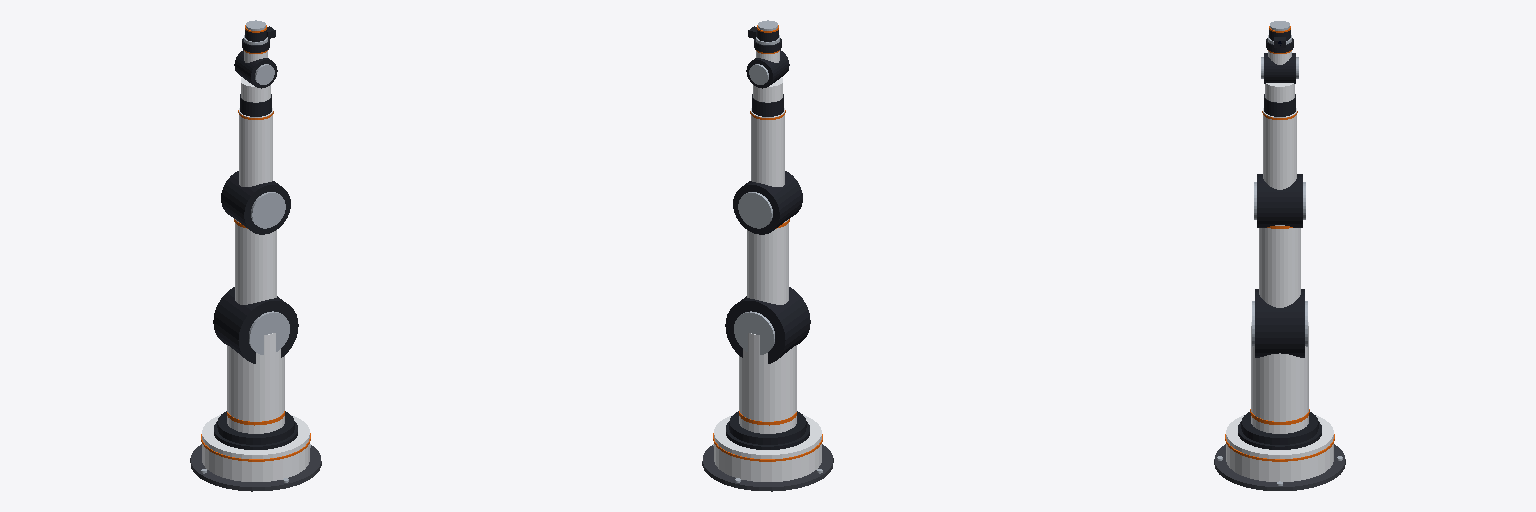
robot.urdf — robot_6axes:
<?xml version="1.0"?>
<robot name="robot_6axes">

  <!-- Base Link -->
  <link name="base_link">
    <visual>
      <geometry>
        <cylinder length="0.012" radius="0.17"/>
      </geometry>
      <origin xyz="0 0 0.006" rpy="0 0 0"/>
      <material name="anthracite">
        <color rgba="0.28 0.29 0.32 1"/>
      </material>
    </visual>
    <visual>
      <geometry>
        <cylinder length="0.078" radius="0.14"/>
      </geometry>
      <origin xyz="0 0 0.051" rpy="0 0 0"/>
      <material name="white">
        <color rgba="0.93 0.94 0.96 1"/>
      </material>
    </visual>
    <visual>
      <geometry>
        <cylinder length="0.006" radius="0.1425"/>
      </geometry>
      <origin xyz="0 0 0.075" rpy="0 0 0"/>
      <material name="orange">
        <color rgba="0.96 0.46 0.1 1"/>
      </material>
    </visual>
    <visual>
      <geometry>
        <cylinder length="0.01" radius="0.11"/>
      </geometry>
      <origin xyz="0 0 0.095" rpy="0 0 0"/>
      <material name="graphite">
        <color rgba="0.17 0.18 0.21 1"/>
      </material>
    </visual>
    <visual>
      <geometry>
        <cylinder length="0.006" radius="0.008"/>
      </geometry>
      <origin xyz="0.155 0 0.015" rpy="0 0 0"/>
      <material name="silver">
        <color rgba="0.72 0.75 0.79 1"/>
      </material>
    </visual>
    <visual>
      <geometry>
        <cylinder length="0.006" radius="0.008"/>
      </geometry>
      <origin xyz="-0.155 0 0.015" rpy="0 0 0"/>
      <material name="silver">
        <color rgba="0.72 0.75 0.79 1"/>
      </material>
    </visual>
    <visual>
      <geometry>
        <cylinder length="0.006" radius="0.008"/>
      </geometry>
      <origin xyz="0 0.155 0.015" rpy="0 0 0"/>
      <material name="silver">
        <color rgba="0.72 0.75 0.79 1"/>
      </material>
    </visual>
    <visual>
      <geometry>
        <cylinder length="0.006" radius="0.008"/>
      </geometry>
      <origin xyz="0 -0.155 0.015" rpy="0 0 0"/>
      <material name="silver">
        <color rgba="0.72 0.75 0.79 1"/>
      </material>
    </visual>
    <collision>
      <geometry>
        <cylinder length="0.1" radius="0.15"/>
      </geometry>
      <origin xyz="0 0 0.05" rpy="0 0 0"/>
    </collision>
    <inertial>
      <mass value="5.0"/>
      <origin xyz="0 0 0.05" rpy="0 0 0"/>
      <inertia ixx="0.05" ixy="0.0" ixz="0.0" iyy="0.05" iyz="0.0" izz="0.08"/>
    </inertial>
  </link>

  <!-- Link 1 -->
  <link name="link1">
    <visual>
      <geometry>
        <cylinder length="0.02" radius="0.1"/>
      </geometry>
      <origin xyz="0 0 0.01" rpy="0 0 0"/>
      <material name="graphite">
        <color rgba="0.17 0.18 0.21 1"/>
      </material>
    </visual>
    <visual>
      <geometry>
        <cylinder length="0.28" radius="0.075"/>
      </geometry>
      <origin xyz="0 0 0.16" rpy="0 0 0"/>
      <material name="white">
        <color rgba="0.93 0.94 0.96 1"/>
      </material>
    </visual>
    <visual>
      <geometry>
        <cylinder length="0.01" radius="0.0765"/>
      </geometry>
      <origin xyz="0 0 0.05" rpy="0 0 0"/>
      <material name="orange">
        <color rgba="0.96 0.46 0.1 1"/>
      </material>
    </visual>
    <visual>
      <geometry>
        <cylinder length="0.13" radius="0.09"/>
      </geometry>
      <origin xyz="0 0 0.30" rpy="1.5708 0 0"/>
      <material name="graphite">
        <color rgba="0.17 0.18 0.21 1"/>
      </material>
    </visual>
    <visual>
      <geometry>
        <cylinder length="0.145" radius="0.06"/>
      </geometry>
      <origin xyz="0 0 0.30" rpy="1.5708 0 0"/>
      <material name="silver">
        <color rgba="0.72 0.75 0.79 1"/>
      </material>
    </visual>
    <collision>
      <geometry>
        <cylinder length="0.3" radius="0.08"/>
      </geometry>
      <origin xyz="0 0 0.15" rpy="0 0 0"/>
    </collision>
    <inertial>
      <mass value="3.0"/>
      <origin xyz="0 0 0.15" rpy="0 0 0"/>
      <inertia ixx="0.025" ixy="0.0" ixz="0.0" iyy="0.025" iyz="0.0" izz="0.01"/>
    </inertial>
  </link>

  <!-- Joint 1: Base rotation -->
  <joint name="joint1" type="revolute">
    <parent link="base_link"/>
    <child link="link1"/>
    <origin xyz="0 0 0.1" rpy="0 0 0"/>
    <axis xyz="0 0 1"/>
    <limit effort="150.0" velocity="2.0" lower="-3.14159" upper="3.14159"/>
    <dynamics damping="1.5" friction="0.5"/>
  </joint>

  <!-- Link 2 -->
  <link name="link2">
    <visual>
      <geometry>
        <cylinder length="0.27" radius="0.055"/>
      </geometry>
      <origin xyz="0 0 0.18" rpy="0 0 0"/>
      <material name="white">
        <color rgba="0.93 0.94 0.96 1"/>
      </material>
    </visual>
    <visual>
      <geometry>
        <cylinder length="0.008" radius="0.0565"/>
      </geometry>
      <origin xyz="0 0 0.30" rpy="0 0 0"/>
      <material name="orange">
        <color rgba="0.96 0.46 0.1 1"/>
      </material>
    </visual>
    <visual>
      <geometry>
        <cylinder length="0.12" radius="0.07"/>
      </geometry>
      <origin xyz="0 0 0.35" rpy="1.5708 0 0"/>
      <material name="graphite">
        <color rgba="0.17 0.18 0.21 1"/>
      </material>
    </visual>
    <visual>
      <geometry>
        <cylinder length="0.135" radius="0.05"/>
      </geometry>
      <origin xyz="0 0 0.35" rpy="1.5708 0 0"/>
      <material name="silver">
        <color rgba="0.72 0.75 0.79 1"/>
      </material>
    </visual>
    <collision>
      <geometry>
        <cylinder length="0.35" radius="0.06"/>
      </geometry>
      <origin xyz="0 0 0.175" rpy="0 0 0"/>
    </collision>
    <inertial>
      <mass value="2.5"/>
      <origin xyz="0 0 0.175" rpy="0 0 0"/>
      <inertia ixx="0.03" ixy="0.0" ixz="0.0" iyy="0.03" iyz="0.0" izz="0.008"/>
    </inertial>
  </link>

  <!-- Joint 2: Shoulder -->
  <joint name="joint2" type="revolute">
    <parent link="link1"/>
    <child link="link2"/>
    <origin xyz="0 0 0.3" rpy="0 0 0"/>
    <axis xyz="0 1 0"/>
    <limit effort="120.0" velocity="1.8" lower="-1.57079" upper="1.57079"/>
    <dynamics damping="1.2" friction="0.4"/>
  </joint>

  <!-- Link 3 -->
  <link name="link3">
    <visual>
      <geometry>
        <cylinder length="0.22" radius="0.045"/>
      </geometry>
      <origin xyz="0 0 0.15" rpy="0 0 0"/>
      <material name="white">
        <color rgba="0.93 0.94 0.96 1"/>
      </material>
    </visual>
    <visual>
      <geometry>
        <cylinder length="0.006" radius="0.0455"/>
      </geometry>
      <origin xyz="0 0 0.255" rpy="0 0 0"/>
      <material name="orange">
        <color rgba="0.96 0.46 0.1 1"/>
      </material>
    </visual>
    <visual>
      <geometry>
        <cylinder length="0.04" radius="0.042"/>
      </geometry>
      <origin xyz="0 0 0.28" rpy="0 0 0"/>
      <material name="graphite">
        <color rgba="0.17 0.18 0.21 1"/>
      </material>
    </visual>
    <collision>
      <geometry>
        <cylinder length="0.3" radius="0.05"/>
      </geometry>
      <origin xyz="0 0 0.15" rpy="0 0 0"/>
    </collision>
    <inertial>
      <mass value="2.0"/>
      <origin xyz="0 0 0.15" rpy="0 0 0"/>
      <inertia ixx="0.02" ixy="0.0" ixz="0.0" iyy="0.02" iyz="0.0" izz="0.005"/>
    </inertial>
  </link>

  <!-- Joint 3: Elbow -->
  <joint name="joint3" type="revolute">
    <parent link="link2"/>
    <child link="link3"/>
    <origin xyz="0 0 0.35" rpy="0 0 0"/>
    <axis xyz="0 1 0"/>
    <limit effort="100.0" velocity="2.2" lower="-2.35619" upper="2.35619"/>
    <dynamics damping="1.0" friction="0.3"/>
  </joint>

  <!-- Link 4 -->
  <link name="link4">
    <visual>
      <geometry>
        <cylinder length="0.045" radius="0.04"/>
      </geometry>
      <origin xyz="0 0 0.0225" rpy="0 0 0"/>
      <material name="white">
        <color rgba="0.93 0.94 0.96 1"/>
      </material>
    </visual>
    <visual>
      <geometry>
        <cylinder length="0.085" radius="0.04"/>
      </geometry>
      <origin xyz="0 0 0.08" rpy="1.5708 0 0"/>
      <material name="graphite">
        <color rgba="0.17 0.18 0.21 1"/>
      </material>
    </visual>
    <visual>
      <geometry>
        <cylinder length="0.098" radius="0.028"/>
      </geometry>
      <origin xyz="0 0 0.08" rpy="1.5708 0 0"/>
      <material name="silver">
        <color rgba="0.72 0.75 0.79 1"/>
      </material>
    </visual>
    <collision>
      <geometry>
        <cylinder length="0.08" radius="0.04"/>
      </geometry>
      <origin xyz="0 0 0.04" rpy="0 0 0"/>
    </collision>
    <inertial>
      <mass value="1.0"/>
      <origin xyz="0 0 0.04" rpy="0 0 0"/>
      <inertia ixx="0.005" ixy="0.0" ixz="0.0" iyy="0.005" iyz="0.0" izz="0.002"/>
    </inertial>
  </link>

  <!-- Joint 4: Wrist roll -->
  <joint name="joint4" type="revolute">
    <parent link="link3"/>
    <child link="link4"/>
    <origin xyz="0 0 0.3" rpy="0 0 0"/>
    <axis xyz="0 0 1"/>
    <limit effort="50.0" velocity="2.5" lower="-3.14159" upper="3.14159"/>
    <dynamics damping="0.5" friction="0.2"/>
  </joint>

  <!-- Link 5 -->
  <link name="link5">
    <visual>
      <geometry>
        <cylinder length="0.05" radius="0.032"/>
      </geometry>
      <origin xyz="0 0 0.04" rpy="0 0 0"/>
      <material name="white">
        <color rgba="0.93 0.94 0.96 1"/>
      </material>
    </visual>
    <visual>
      <geometry>
        <cylinder length="0.005" radius="0.0335"/>
      </geometry>
      <origin xyz="0 0 0.0575" rpy="0 0 0"/>
      <material name="orange">
        <color rgba="0.96 0.46 0.1 1"/>
      </material>
    </visual>
    <visual>
      <geometry>
        <cylinder length="0.02" radius="0.036"/>
      </geometry>
      <origin xyz="0 0 0.07" rpy="0 0 0"/>
      <material name="graphite">
        <color rgba="0.17 0.18 0.21 1"/>
      </material>
    </visual>
    <collision>
      <geometry>
        <cylinder length="0.08" radius="0.035"/>
      </geometry>
      <origin xyz="0 0 0.04" rpy="0 0 0"/>
    </collision>
    <inertial>
      <mass value="0.8"/>
      <origin xyz="0 0 0.04" rpy="0 0 0"/>
      <inertia ixx="0.003" ixy="0.0" ixz="0.0" iyy="0.003" iyz="0.0" izz="0.001"/>
    </inertial>
  </link>

  <!-- Joint 5: Wrist pitch -->
  <joint name="joint5" type="revolute">
    <parent link="link4"/>
    <child link="link5"/>
    <origin xyz="0 0 0.08" rpy="0 0 0"/>
    <axis xyz="0 1 0"/>
    <limit effort="40.0" velocity="2.8" lower="-1.74533" upper="1.74533"/>
    <dynamics damping="0.4" friction="0.15"/>
  </joint>

  <!-- Link 6 : poignet (dernier corps du bras). Le plateau d'outil est exclu : il appartient a l'outil. -->
  <link name="link6">
    <visual>
      <geometry><cylinder length="0.008" radius="0.032"/></geometry>
      <origin xyz="0 0 0.004" rpy="0 0 0"/>
      <material name="silver"><color rgba="0.72 0.75 0.79 1"/></material>
    </visual>
    <visual>
      <geometry><cylinder length="0.026" radius="0.028"/></geometry>
      <origin xyz="0 0 0.021" rpy="0 0 0"/>
      <material name="graphite"><color rgba="0.17 0.18 0.21 1"/></material>
    </visual>
    <visual>
      <geometry><cylinder length="0.004" radius="0.0285"/></geometry>
      <origin xyz="0 0 0.036" rpy="0 0 0"/>
      <material name="orange"><color rgba="0.96 0.46 0.1 1"/></material>
    </visual>
    <!-- Plateau de bride (face de montage de l'outil, plan z = 0.044) -->
    <visual>
      <geometry><cylinder length="0.006" radius="0.026"/></geometry>
      <origin xyz="0 0 0.041" rpy="0 0 0"/>
      <material name="silver"><color rgba="0.72 0.75 0.79 1"/></material>
    </visual>
    <!-- Voyant / capteur lateral -->
    <visual>
      <geometry><box size="0.024 0.03 0.02"/></geometry>
      <origin xyz="0.038 0 0.012" rpy="0 0 0"/>
      <material name="graphite"><color rgba="0.17 0.18 0.21 1"/></material>
    </visual>
    <visual>
      <geometry><cylinder length="0.002" radius="0.008"/></geometry>
      <origin xyz="0.049 0 0.012" rpy="0 1.5708 0"/>
      <material name="glass"><color rgba="0.04 0.07 0.14 1"/></material>
    </visual>
    <collision>
      <geometry><cylinder length="0.044" radius="0.032"/></geometry>
      <origin xyz="0 0 0.022" rpy="0 0 0"/>
    </collision>
    <inertial>
      <mass value="0.4"/>
      <origin xyz="0 0 0.022" rpy="0 0 0"/>
      <inertia ixx="0.0004" ixy="0.0" ixz="0.0" iyy="0.0004" iyz="0.0" izz="0.0002"/>
    </inertial>
  </link>

  <!-- Joint 6: Wrist yaw -->
  <joint name="joint6" type="revolute">
    <parent link="link5"/>
    <child link="link6"/>
    <origin xyz="0 0 0.08" rpy="0 0 0"/>
    <axis xyz="0 0 1"/>
    <limit effort="30.0" velocity="3.0" lower="-3.14159" upper="3.14159"/>
    <dynamics damping="0.3" friction="0.1"/>
  </joint>

  <!-- ===== Interface outil =====
       flange : bride mecanique du robot (ISO 9787 : origine au centre de la face de montage,
                z = normale sortante, perpendiculaire a la face).
       tool0  : repere ROS-Industrial, confondu avec flange (TCP par defaut = pas d'outil). -->
  <link name="flange"/>
  <joint name="link6_to_flange" type="fixed">
    <parent link="link6"/>
    <child link="flange"/>
    <origin xyz="0 0 0.044" rpy="0 0 0"/>
  </joint>

  <link name="tool0"/>
  <joint name="flange_to_tool0" type="fixed">
    <parent link="flange"/>
    <child link="tool0"/>
    <origin xyz="0 0 0" rpy="0 0 0"/>
  </joint>

</robot>

--- What the picture shows (computed from the rendered views, not written in the file) ---
The picture shows the robot from 3 angles, left to right: view 1: azimuth 30°, elevation 25°; view 2: azimuth 150°, elevation 25°; view 3: azimuth 270°, elevation 25°; orthographic projection.
Model robot_6axes with 9 links and 8 joints (6 revolute, 2 fixed), rooted at base_link, posed every joint at zero.
Visible links, largest first — view 1: link1, base_link, link2, link3, link4, link6; view 2: link1, base_link, link2, link3, link4, link6; view 3: link1, base_link, link2, link3, link4, link6.
Boxes of the visible links, x1=… form: link1: x1=213, y1=287, x2=298, y2=444; base_link: x1=190, y1=415, x2=321, y2=491; link2: x1=221, y1=171, x2=290, y2=304; link3: x1=238, y1=94, x2=273, y2=186; link4: x1=234, y1=50, x2=277, y2=102; link6: x1=244, y1=20, x2=275, y2=44; link1: x1=725, y1=287, x2=810, y2=444; base_link: x1=702, y1=415, x2=833, y2=491; link2: x1=733, y1=171, x2=802, y2=304; link3: x1=750, y1=94, x2=785, y2=186; link4: x1=746, y1=50, x2=789, y2=102; link6: x1=748, y1=20, x2=779, y2=44; link1: x1=1241, y1=289, x2=1318, y2=444; base_link: x1=1214, y1=415, x2=1345, y2=490; link2: x1=1254, y1=174, x2=1305, y2=307; link3: x1=1262, y1=94, x2=1297, y2=189; link4: x1=1261, y1=53, x2=1298, y2=102; link6: x1=1268, y1=21, x2=1291, y2=47.
Bounding box of the posed robot: 0.34 × 0.34 × 1.25 m (x, y, z).
Geometry: primitives only (box / cylinder / sphere), no mesh files.
